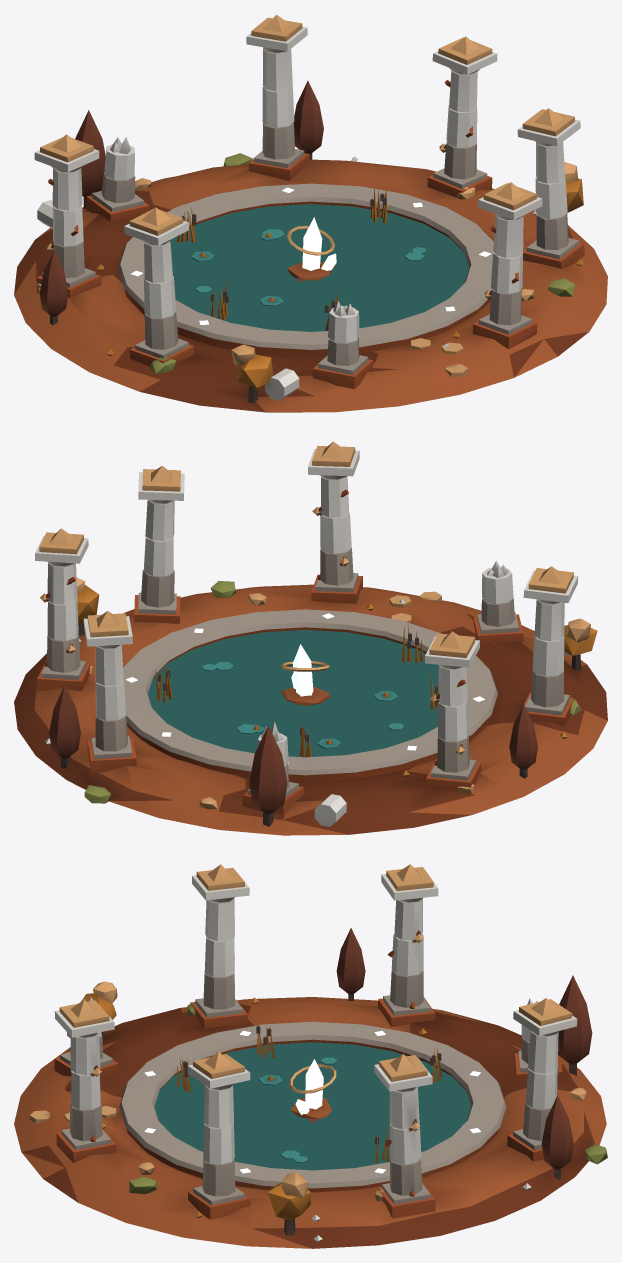
File: nw_mirror_lake.glb
3 renders of one model, top to bottom at view 1: azimuth 30°, elevation 25°; view 2: azimuth 150°, elevation 25°; view 3: azimuth 270°, elevation 25°, orthographic.
Parts seen in each view (by area): view 1: nw_mirror_lake; view 2: nw_mirror_lake; view 3: nw_mirror_lake.
Part boxes in pixels (x1,y1,x2,y2): nw_mirror_lake: (14,14,607,412); nw_mirror_lake: (14,441,607,835); nw_mirror_lake: (14,864,607,1248).
Size of the model in its own units: 1.57 by 0.4886 by 1.55.
